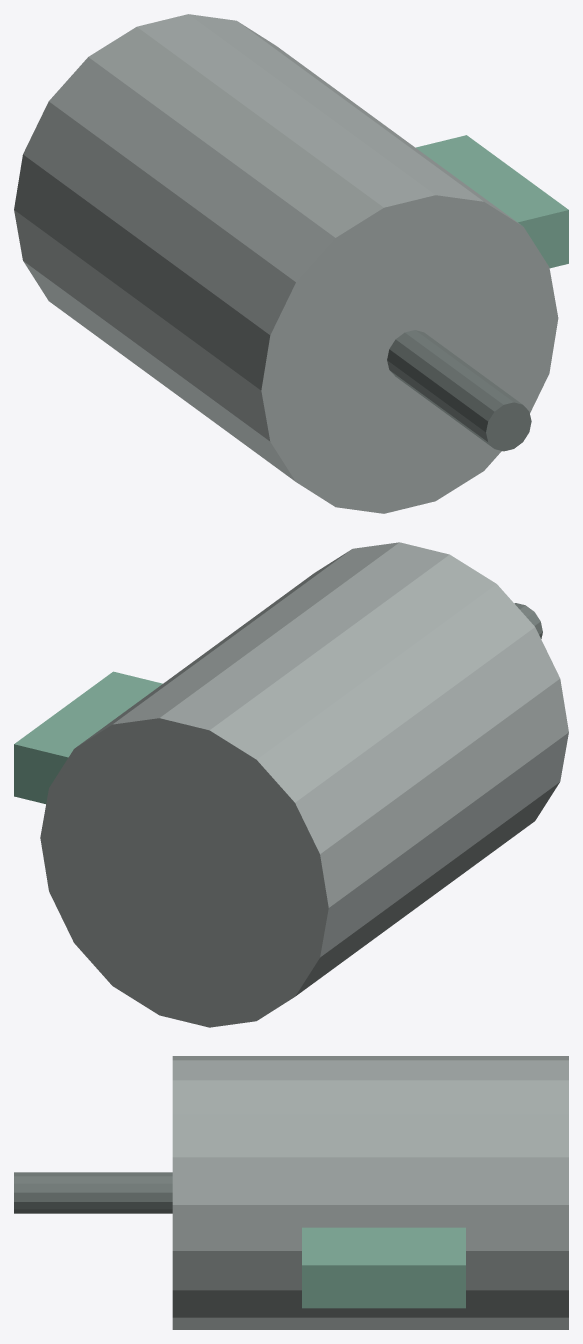
The model's file is pasteurizer-eco.glb.
3 renders of one model, top to bottom at view 1: azimuth 30°, elevation 25°; view 2: azimuth 150°, elevation 25°; view 3: azimuth 270°, elevation 25°, orthographic. The views are drawn at different scales.
Parts seen in each view (by area): view 1: tank, top-pipe, panel; view 2: tank, panel; view 3: tank, panel, top-pipe.
Boxes of the visible parts, left/top/right/bottom form: tank: left=14, top=14, right=558, bottom=513; top-pipe: left=387, top=330, right=531, bottom=451; panel: left=416, top=135, right=568, bottom=268; tank: left=40, top=542, right=568, bottom=1027; panel: left=14, top=671, right=162, bottom=803; tank: left=172, top=1056, right=568, bottom=1329; panel: left=302, top=1227, right=465, bottom=1308; top-pipe: left=14, top=1172, right=172, bottom=1213.
Size of the model in its own units: 1.36 by 1.02 by 2.1.
